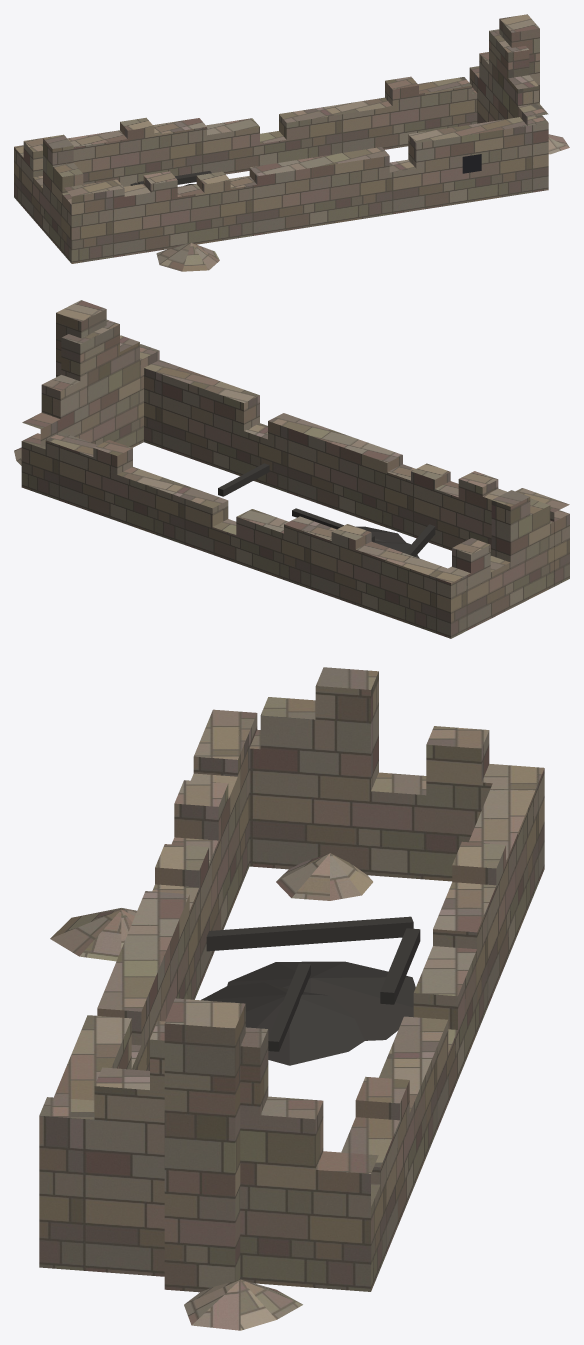
The picture shows the model from 3 angles, top to bottom: view 1: azimuth 30°, elevation 25°; view 2: azimuth 150°, elevation 25°; view 3: azimuth 270°, elevation 25°; orthographic projection. The views are drawn at different scales.
Parts seen in each view (by area): view 1: b001079_ruin_wall, b001079_ruin_glass; view 2: b001079_ruin_wall, b001079_ruin_char; view 3: b001079_ruin_wall, b001079_ruin_char.
Part boxes in pixels (x1,y1,x2,y2): b001079_ruin_wall: [14, 14, 569, 271]; b001079_ruin_glass: [462, 154, 481, 173]; b001079_ruin_wall: [14, 300, 569, 638]; b001079_ruin_char: [218, 463, 435, 558]; b001079_ruin_wall: [39, 667, 544, 1330]; b001079_ruin_char: [201, 916, 420, 1065].
Bounding box in the file's own units: 15.45 × 3.95 × 6.79.
Materials: 3 (1 with a texture image).
